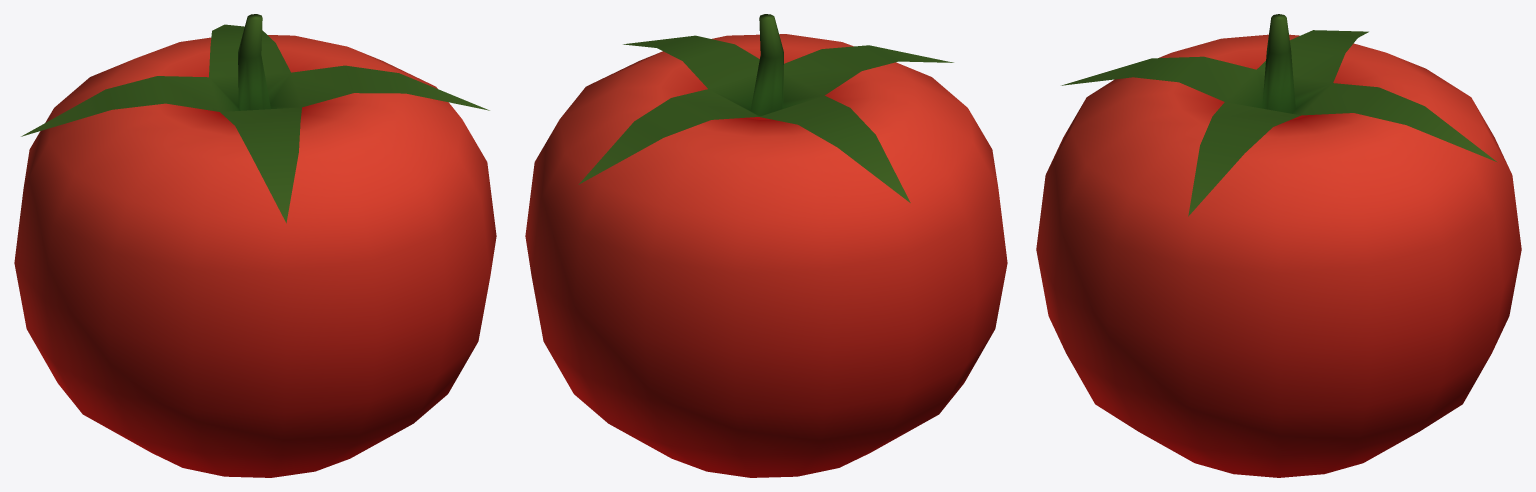
Rendered from consumables-vegetables-tomato_v1.glb.
3 views of the same model, side by side, from view 1: azimuth 30°, elevation 25°; view 2: azimuth 150°, elevation 25°; view 3: azimuth 270°, elevation 25° (orthographic).
Visible parts, largest first — view 1: Tomato.001; view 2: Tomato.001; view 3: Tomato.001.
Part boxes in pixels (x1,y1,x2,y2): Tomato.001: [14, 14, 496, 477]; Tomato.001: [525, 14, 1007, 477]; Tomato.001: [1036, 14, 1521, 477].
Size of the model in its own units: 0.0743 by 0.0724 by 0.0743.
